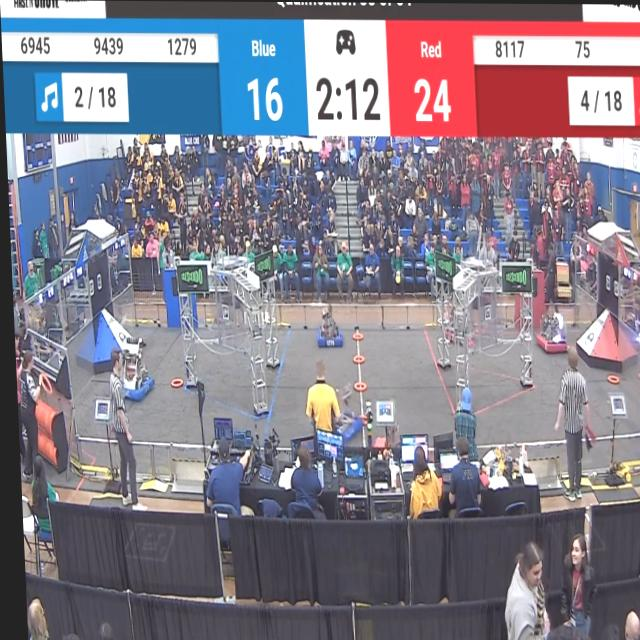Robot: (107, 325, 151, 405), (438, 292, 474, 353), (533, 301, 565, 355), (311, 306, 340, 352)
